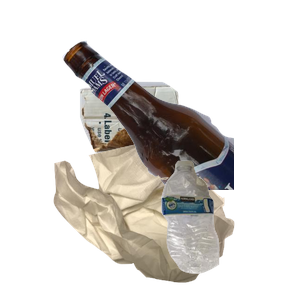cardboard: (77, 79, 251, 227)
glass: (60, 38, 300, 218)
plastic: (159, 158, 300, 300)
trash: (51, 142, 278, 300)
